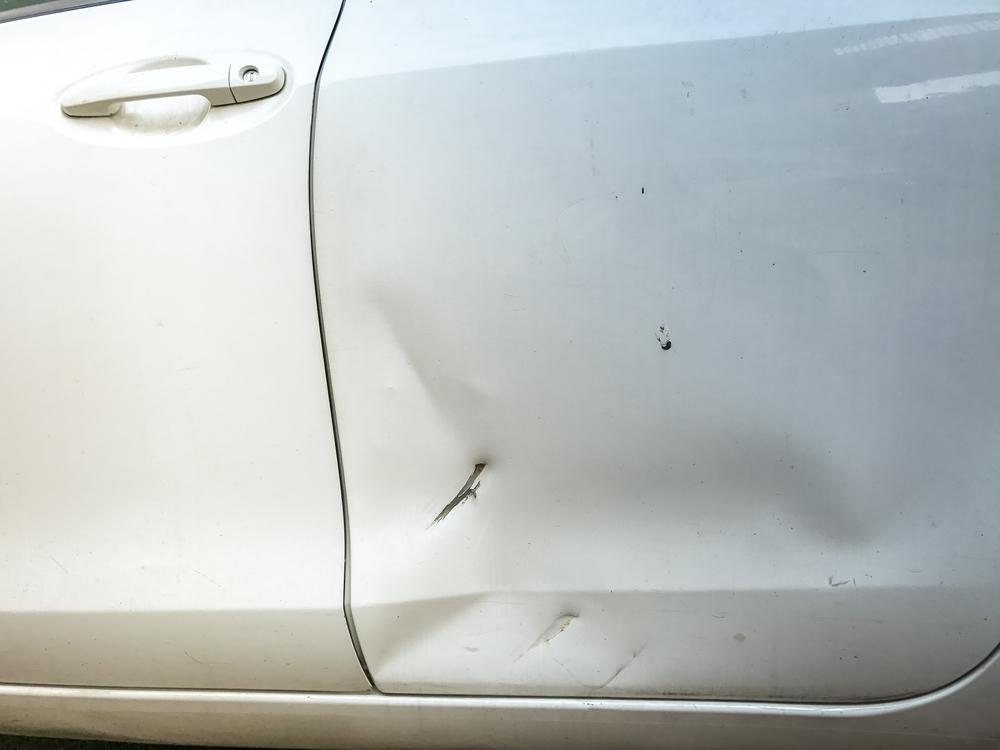dent: (335, 262, 989, 698)
